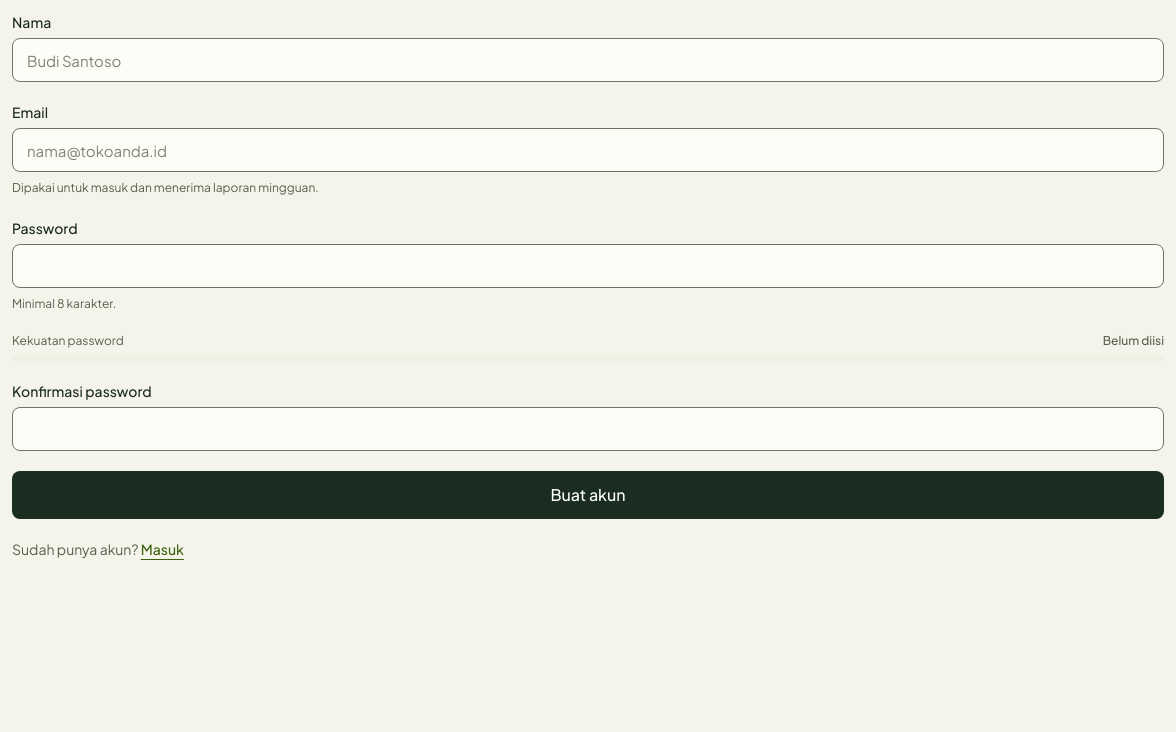
Test case: RegisterForm: detail yang tidak bisa dipetakan tetap ditampilkan › detail yang seluruhnya tak terpetakan tetap tampil
The image size is (1176, 732).
Click the button "Buat akun" at point(588, 495), box [12, 471, 1164, 519]
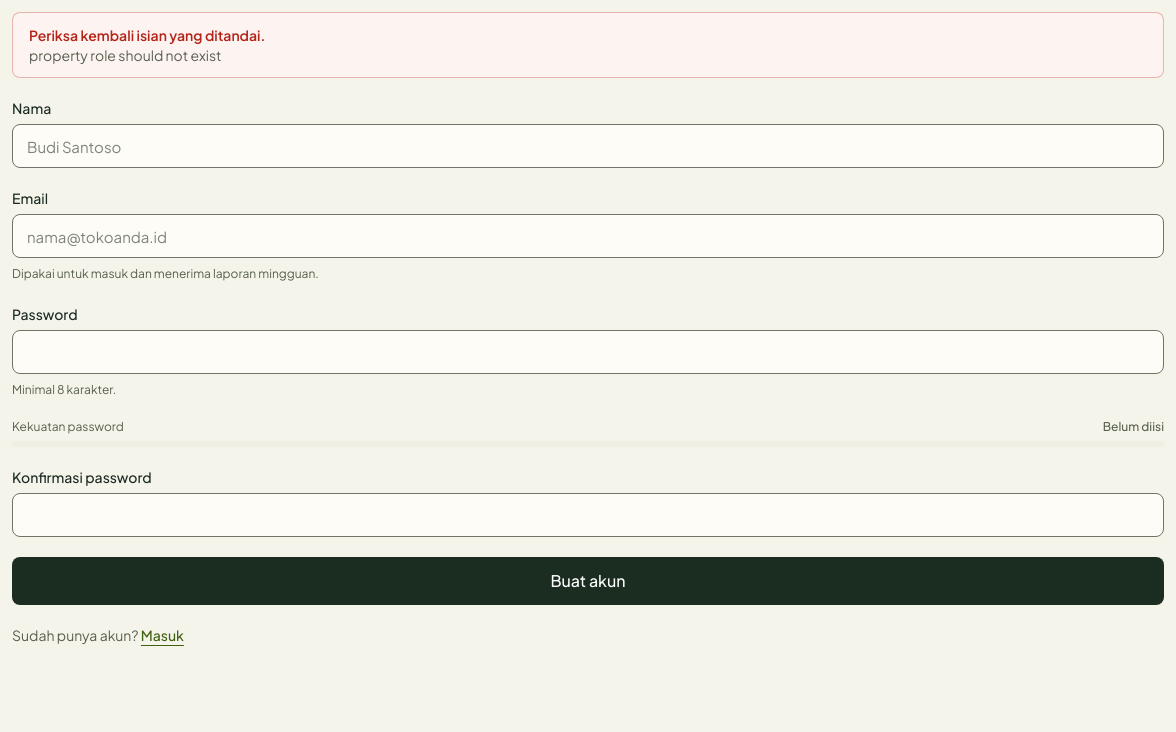
Check: the text "property role should not exist" is shown, box [29, 46, 222, 64]
